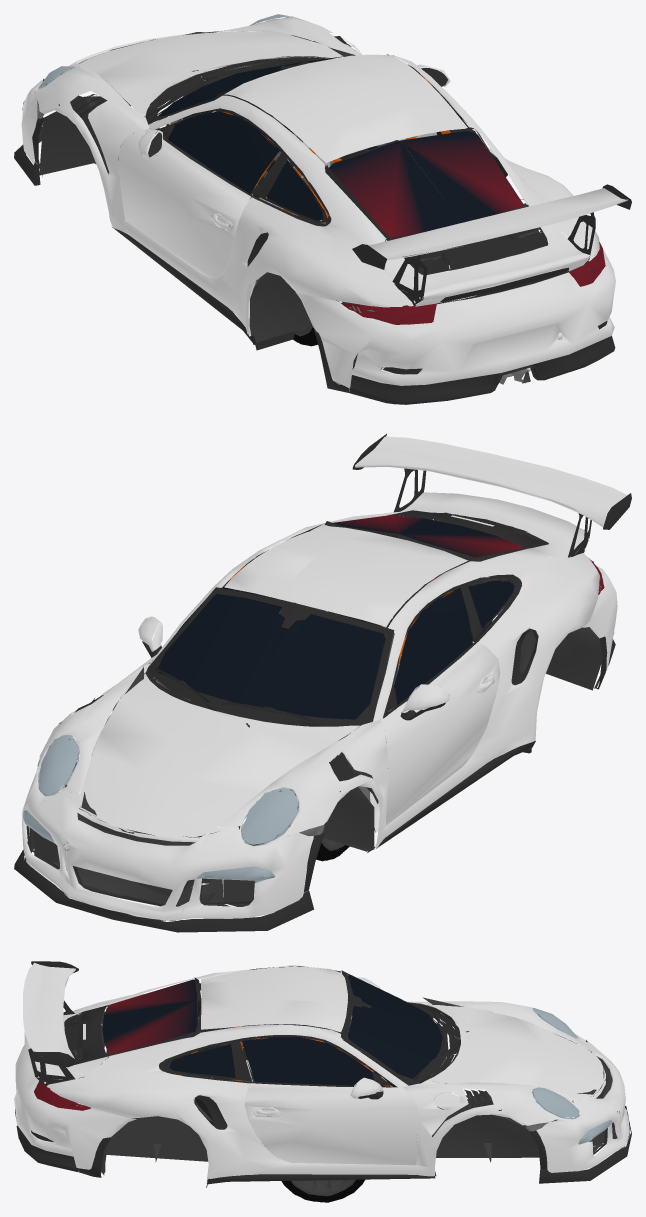
The model's file is porsche-911-gt3-hero.glb.
The picture shows the model from 3 angles, top to bottom: view 1: azimuth 30°, elevation 25°; view 2: azimuth 150°, elevation 25°; view 3: azimuth 270°, elevation 25°; orthographic projection. The views are drawn at different scales.
Parts seen in each view (by area): view 1: Body; view 2: Body; view 3: Body, Wheel_RR, Wheel_RL.
Boxes of the visible parts, x1,y1,x2,y2 form: Body: [14, 14, 631, 404]; Body: [14, 434, 631, 932]; Body: [14, 961, 631, 1187]; Wheel_RR: [282, 1179, 364, 1201]; Wheel_RL: [281, 1179, 364, 1202].
Size of the model in its own units: 1.86 by 1.57 by 4.29.
